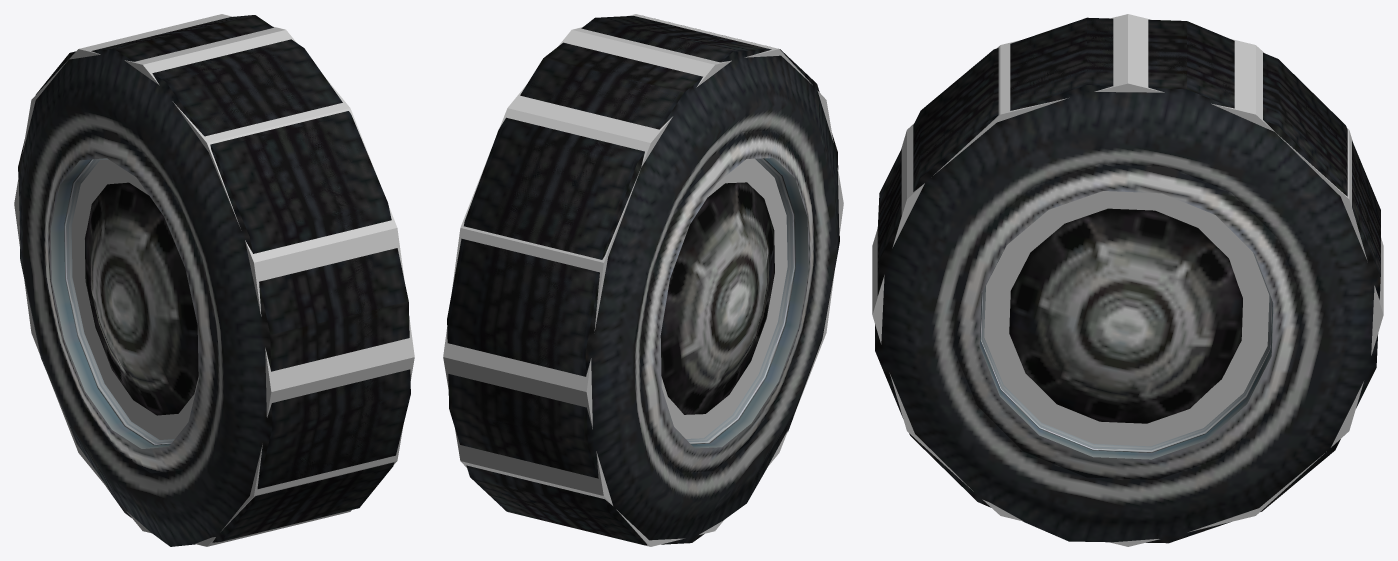
Rendered from tire_15_out.glb.
The picture shows the model from 3 angles, left to right: view 1: azimuth 30°, elevation 25°; view 2: azimuth 150°, elevation 25°; view 3: azimuth 270°, elevation 25°; orthographic projection.
Visible parts, largest first — view 1: Surface3, Surface8, tire_fr_shadow, Surface4, Surface9; view 2: Surface3, Surface8, tire_fr_shadow, Surface4, Surface9; view 3: Surface8, Surface3, Surface9, tire_fr_shadow, Surface4.
Part boxes in pixels (x1,y1,x2,y2): Surface3: (18,17,407,546); Surface8: (43,15,410,510); tire_fr_shadow: (14,14,414,546); Surface4: (64,158,198,445); Surface9: (50,159,170,448); Surface3: (450,18,839,545); Surface8: (447,16,815,525); tire_fr_shadow: (443,14,843,546); Surface4: (660,158,795,444); Surface9: (691,158,808,448); Surface8: (875,19,1380,543); Surface3: (877,17,1380,479); Surface9: (980,208,1272,452); tire_fr_shadow: (872,14,1383,546); Surface4: (979,293,1273,459).
Bounding box in the file's own units: 0.3073 × 0.7197 × 0.7194.
